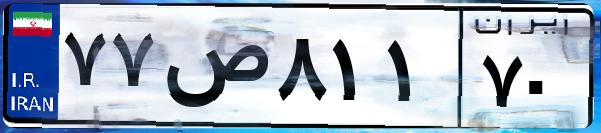0: (525, 38, 570, 115)
1: (385, 28, 445, 110), (330, 28, 385, 110)
7: (57, 26, 110, 100), (475, 38, 525, 113), (110, 28, 158, 98)
8: (270, 28, 330, 110)
ص: (158, 20, 270, 120)
